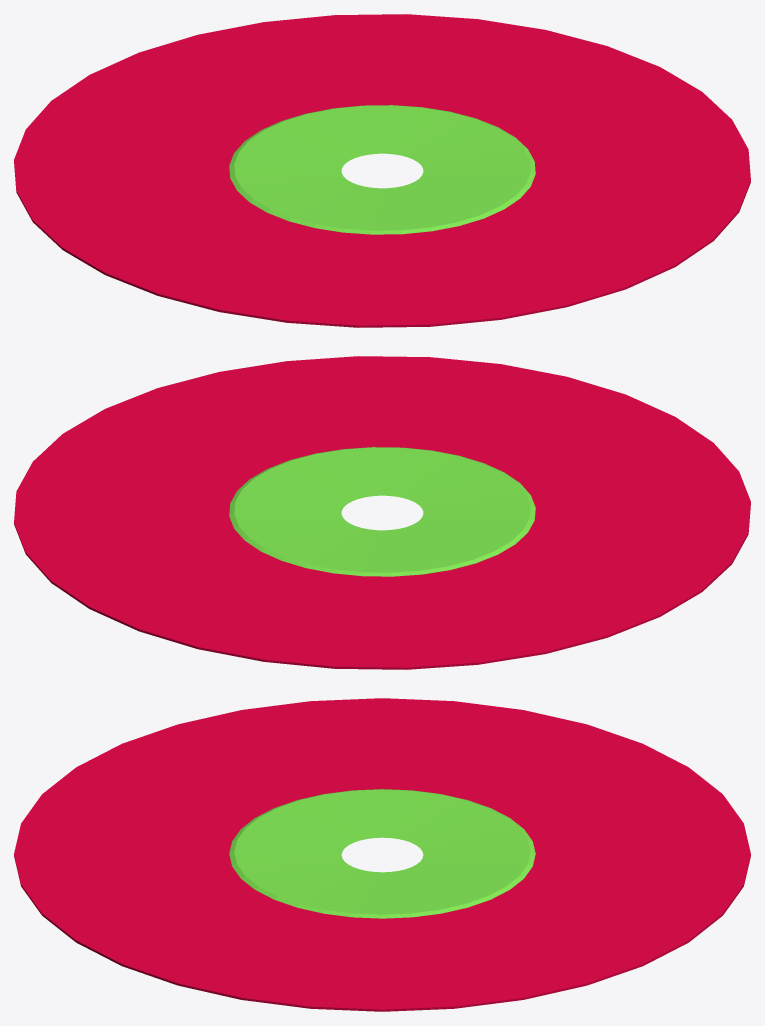
The picture shows the model from 3 angles, top to bottom: view 1: azimuth 30°, elevation 25°; view 2: azimuth 150°, elevation 25°; view 3: azimuth 270°, elevation 25°; orthographic projection.
Visible parts, largest first — view 1: CD.002; view 2: CD.002; view 3: CD.002.
Boxes of the visible parts, <box> form: CD.002: <box>14,14,750,327</box>; CD.002: <box>14,356,750,669</box>; CD.002: <box>14,698,750,1011</box>.
Bounding box in the file's own units: 539 × 4.71 × 539.
